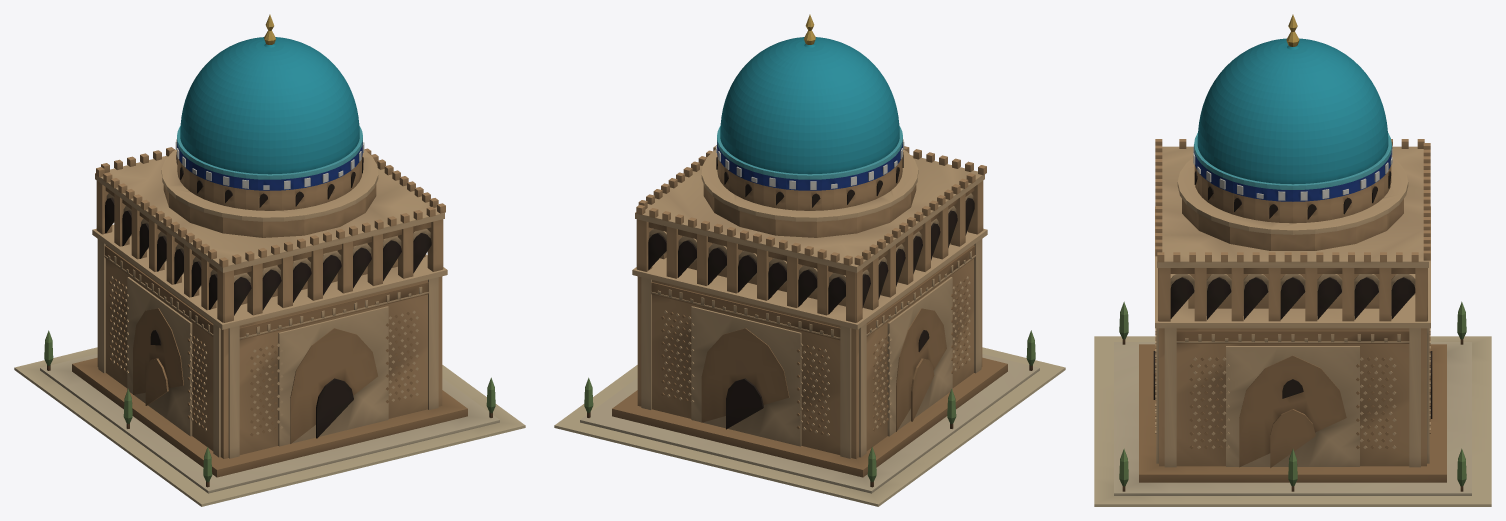
Rendered from sanjar-mausoleum.glb.
3 renders of one model, left to right at view 1: azimuth 30°, elevation 25°; view 2: azimuth 150°, elevation 25°; view 3: azimuth 270°, elevation 25°, orthographic. The views are drawn at different scales.
Visible parts, largest first — view 1: p1_cube, p3_dome, p2_gallery, p0_platform; view 2: p1_cube, p3_dome, p2_gallery, p0_platform; view 3: p1_cube, p3_dome, p0_platform, p2_gallery.
Part boxes in pixels (<box>): p1_cube: <box>92,224,447,458</box>; p3_dome: <box>161,14,378,237</box>; p2_gallery: <box>95,147,445,322</box>; p0_platform: <box>14,330,525,506</box>; p1_cube: <box>632,228,987,458</box>; p3_dome: <box>701,14,918,237</box>; p2_gallery: <box>635,145,986,322</box>; p0_platform: <box>554,330,1065,506</box>; p1_cube: <box>1153,206,1432,467</box>; p3_dome: <box>1177,14,1408,250</box>; p0_platform: <box>1094,301,1491,506</box>; p2_gallery: <box>1155,139,1430,321</box>.
Size of the model in its own units: 40 by 45.42 by 40.
